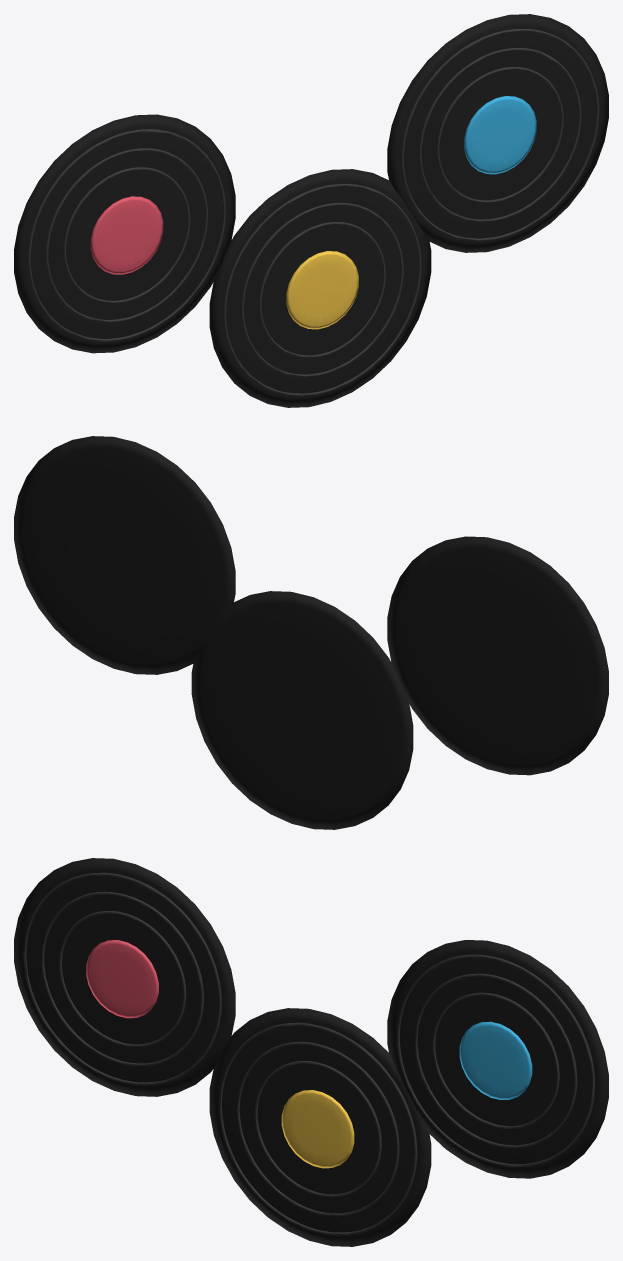
File: deco_vinilos.glb
3 views of the same model, one above another, from view 1: azimuth 30°, elevation 25°; view 2: azimuth 150°, elevation 25°; view 3: azimuth 330°, elevation 25° (orthographic).
Visible parts, largest first — view 1: vinilo 0.001, vinilo 2.001, vinilo 1.001, etiqueta vinilo 0.001, etiqueta vinilo 2.001, etiqueta vinilo 1.001, surco 02.001, surco 12.001, surco 22.001, surco 01.001, surco 21.001, surco 11.001 (+3 smaller); view 2: vinilo 0.001, vinilo 1.001, vinilo 2.001; view 3: vinilo 0.001, vinilo 2.001, vinilo 1.001, etiqueta vinilo 1.001, etiqueta vinilo 0.001, etiqueta vinilo 2.001, surco 02.001, surco 12.001, surco 22.001, surco 21.001, surco 01.001, surco 11.001 (+3 smaller).
Part boxes in pixels (box(x1,y1,x2,y2)): vinilo 0.001: box(14, 114, 235, 353); vinilo 2.001: box(387, 14, 608, 252); vinilo 1.001: box(209, 169, 431, 407); etiqueta vinilo 0.001: box(90, 196, 163, 274); etiqueta vinilo 2.001: box(464, 96, 536, 174); etiqueta vinilo 1.001: box(286, 251, 358, 329); surco 02.001: box(28, 129, 225, 341); surco 12.001: box(223, 183, 421, 396); surco 22.001: box(401, 28, 599, 241); surco 01.001: box(45, 148, 207, 322); surco 21.001: box(419, 48, 581, 222); surco 11.001: box(241, 202, 403, 377); vinilo 0.001: box(387, 536, 608, 775); vinilo 1.001: box(191, 591, 413, 829); vinilo 2.001: box(14, 436, 235, 674); vinilo 0.001: box(14, 858, 235, 1096); vinilo 2.001: box(387, 940, 608, 1178); vinilo 1.001: box(209, 1008, 431, 1246); etiqueta vinilo 1.001: box(281, 1090, 354, 1168); etiqueta vinilo 0.001: box(86, 940, 158, 1018); etiqueta vinilo 2.001: box(459, 1021, 532, 1099); surco 02.001: box(23, 872, 221, 1085); surco 12.001: box(219, 1022, 417, 1235); surco 22.001: box(397, 954, 594, 1166); surco 21.001: box(415, 973, 577, 1147); surco 01.001: box(41, 891, 203, 1066); surco 11.001: box(237, 1041, 399, 1216).
Bounding box in the file's own units: 0.6694 × 0.3694 × 0.009.
